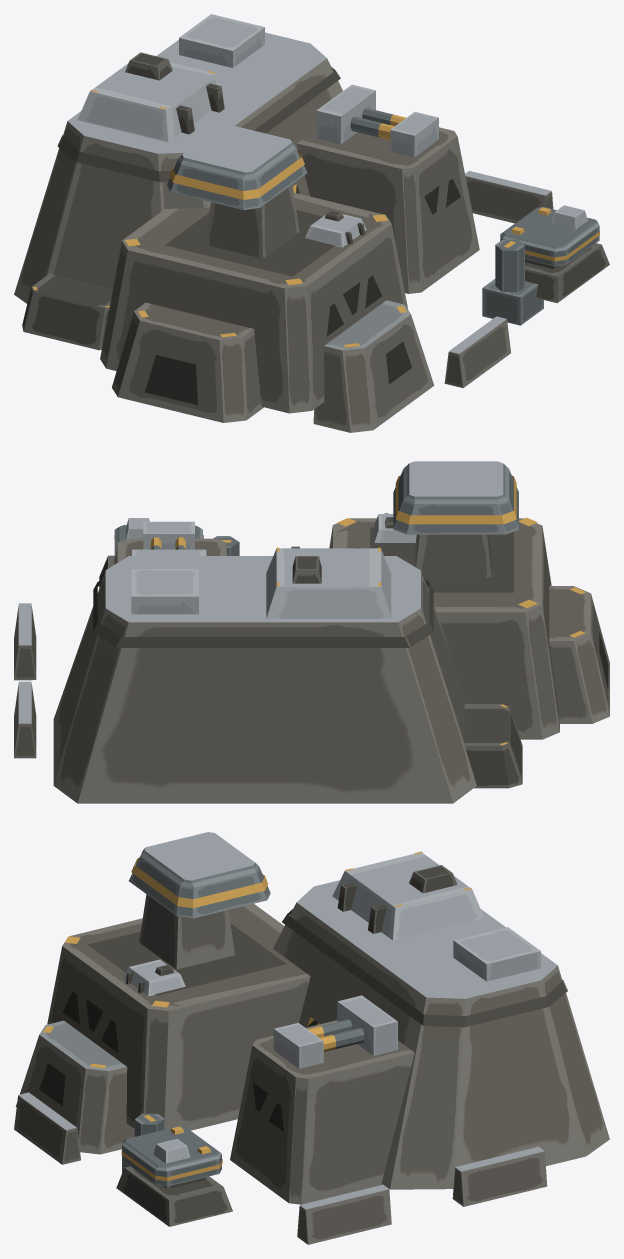
Rendered from stronghold.FBX.
3 renders of one model, top to bottom at view 1: azimuth 30°, elevation 25°; view 2: azimuth 150°, elevation 25°; view 3: azimuth 270°, elevation 25°, orthographic. The views are drawn at different scales.
Visible parts, largest first — view 1: stronghold, c, b, a; view 2: stronghold, b, c; view 3: stronghold, c, b, a.
Part boxes in pixels (box(x1,y1,x2,y2)): stronghold: box(14, 14, 609, 432); c: box(316, 84, 375, 144); b: box(305, 210, 366, 247); a: box(495, 239, 524, 292); stronghold: box(14, 461, 609, 803); b: box(374, 513, 416, 542); c: box(132, 549, 206, 555); stronghold: box(14, 832, 609, 1244); c: box(337, 995, 397, 1055); b: box(123, 959, 185, 996); a: box(134, 1113, 164, 1136).
Bounding box in the file's own units: 160 × 161 × 67.9.
1 material, 1 textured.
